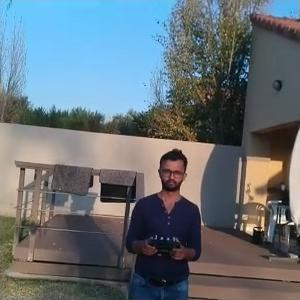follow: (121, 140, 208, 298)
